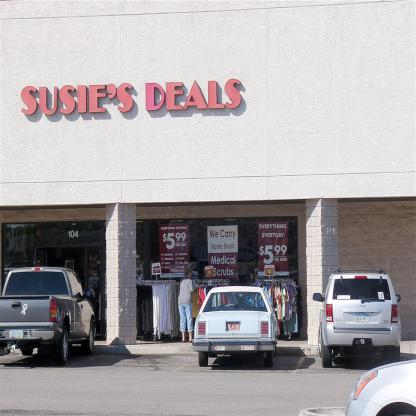Car: (311, 259, 401, 367), (188, 292, 289, 372), (346, 356, 416, 416)
Truck: (0, 264, 99, 369)
